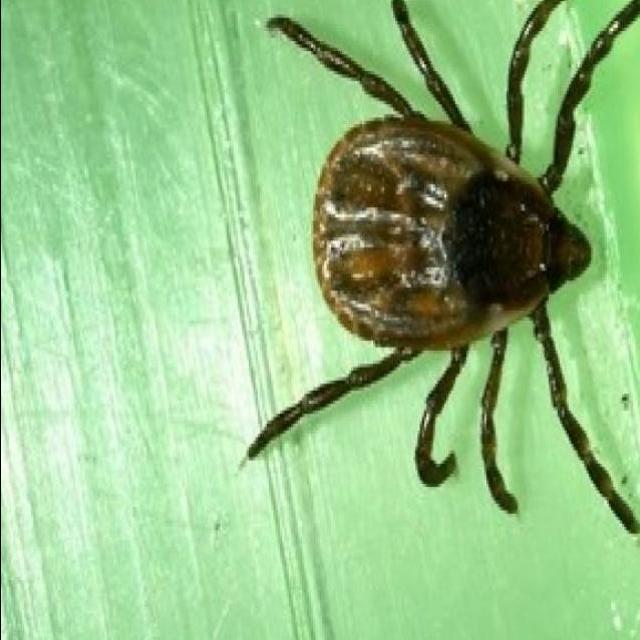Rhipicephalus Sanguineus-F: (248, 0, 640, 537)
